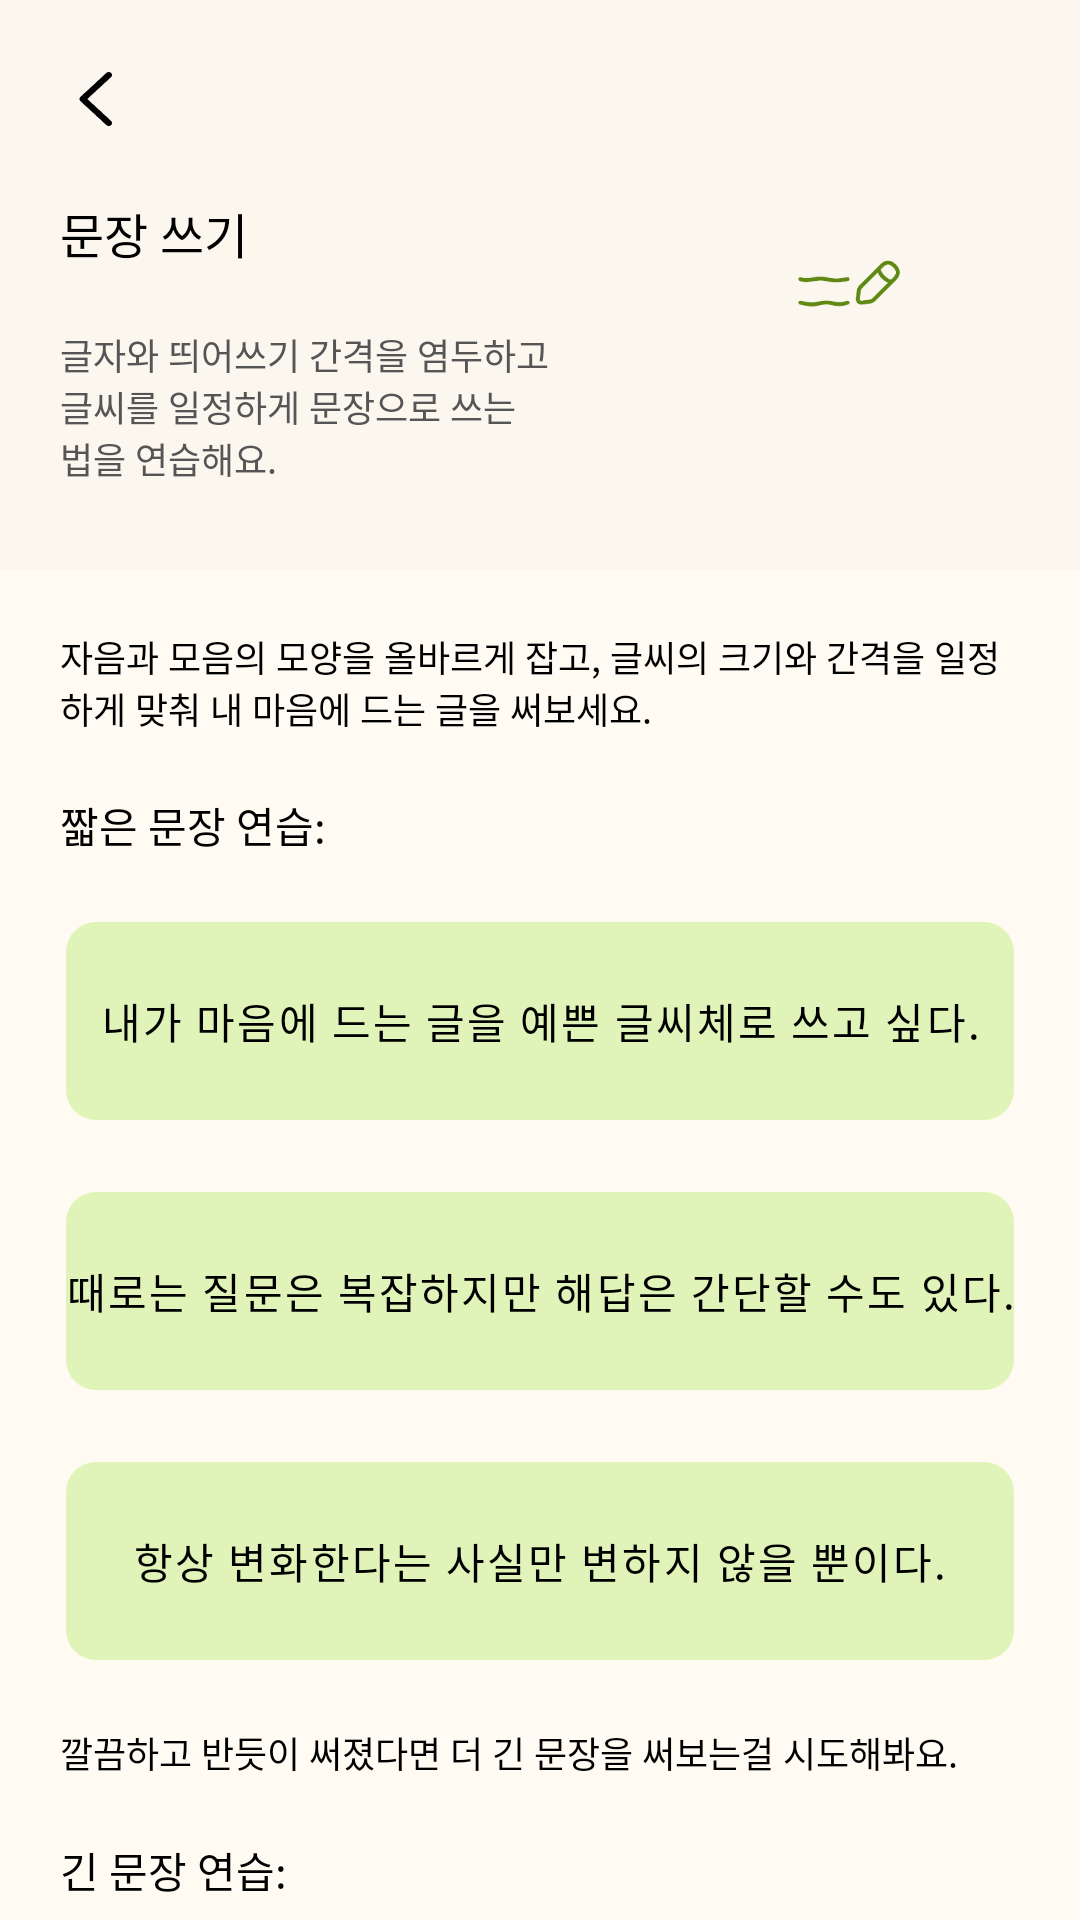

Where to tap for icons on this 1080×1920 app screen, as (x=x, y=y):
back: (x=95, y=99)
practice: (x=849, y=283)
